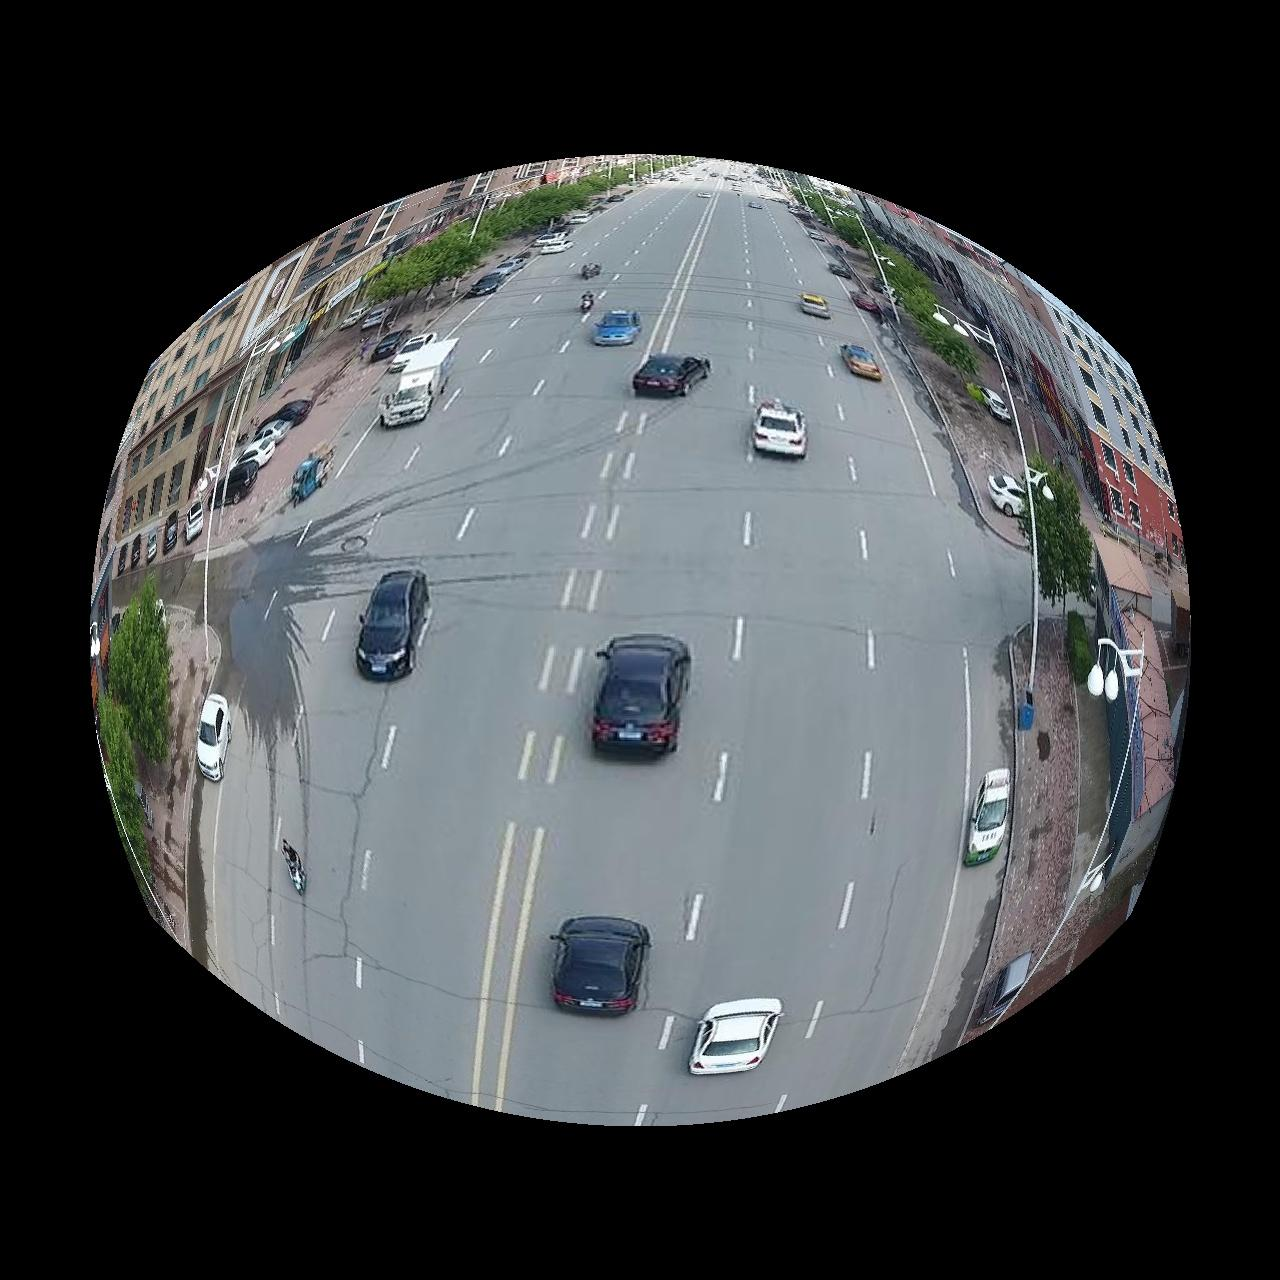building: (103, 169, 524, 540), (940, 230, 1186, 560), (1102, 590, 1177, 870)
cars: (591, 635, 691, 756), (552, 917, 651, 1016), (355, 570, 430, 680), (690, 1000, 784, 1077), (379, 338, 456, 426), (972, 952, 1034, 1032), (966, 770, 1011, 866), (633, 353, 712, 396), (753, 398, 809, 458), (195, 694, 230, 782), (592, 310, 641, 344), (841, 342, 884, 380), (800, 291, 832, 318)
trees: (372, 170, 622, 298), (95, 577, 170, 880), (884, 251, 980, 374), (1033, 453, 1093, 603)
